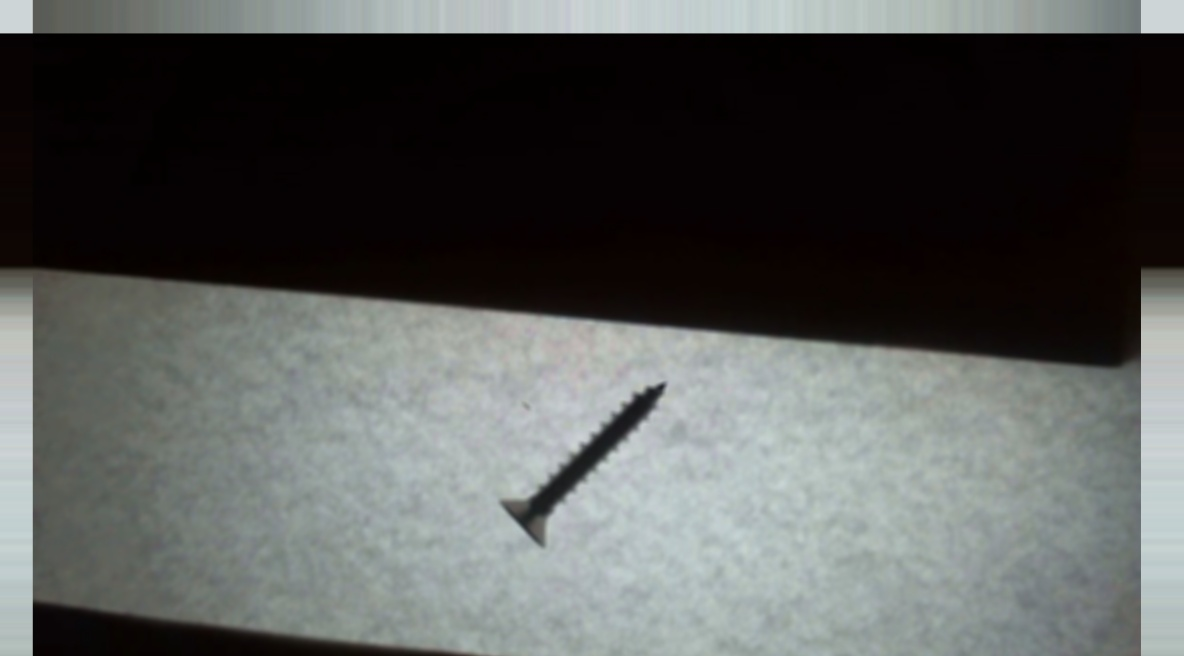S001: (491, 360, 689, 561)
